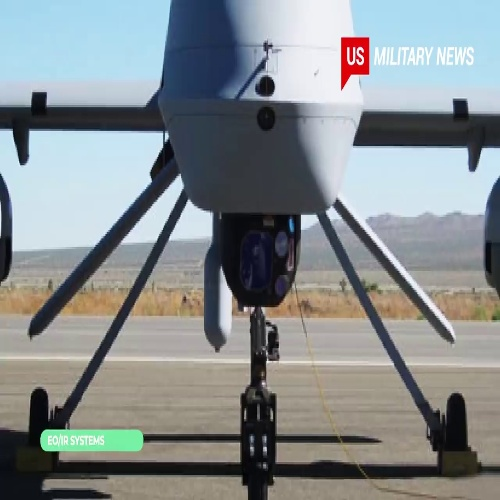uav180: (10, 1, 492, 479)
